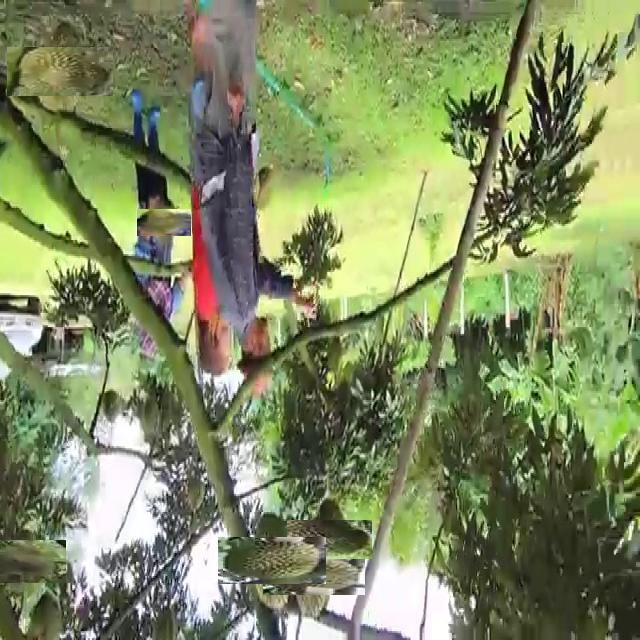durian: (233, 522, 311, 600), (22, 33, 100, 110), (277, 536, 350, 610), (298, 508, 361, 570), (0, 531, 56, 594), (20, 587, 68, 637), (143, 203, 184, 243), (185, 476, 206, 511)
